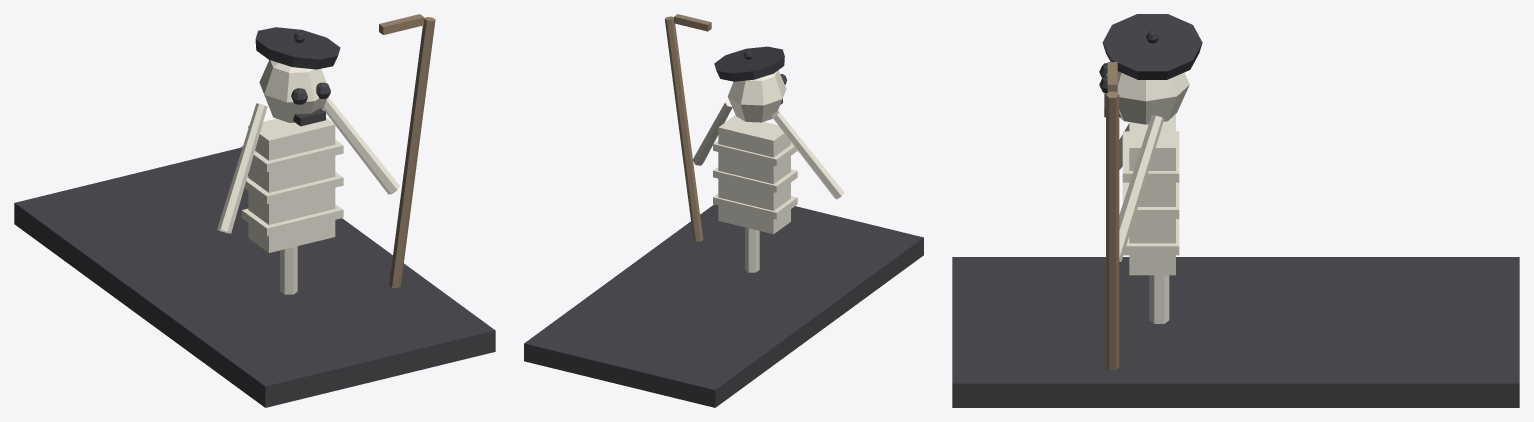
Rendered from VN_Giuseppe.fbx.
3 renders of one model, left to right at view 1: azimuth 30°, elevation 25°; view 2: azimuth 150°, elevation 25°; view 3: azimuth 270°, elevation 25°, orthographic. The views are drawn at different scales.
Visible parts, largest first — view 1: VN_Giuseppe; view 2: VN_Giuseppe; view 3: VN_Giuseppe.
Part boxes in pixels (bbox=[...]): VN_Giuseppe: bbox=[14, 14, 495, 407]; VN_Giuseppe: bbox=[524, 14, 923, 407]; VN_Giuseppe: bbox=[952, 14, 1519, 407].
Size of the model in its own units: 0.9367 by 1.06 by 1.7.
